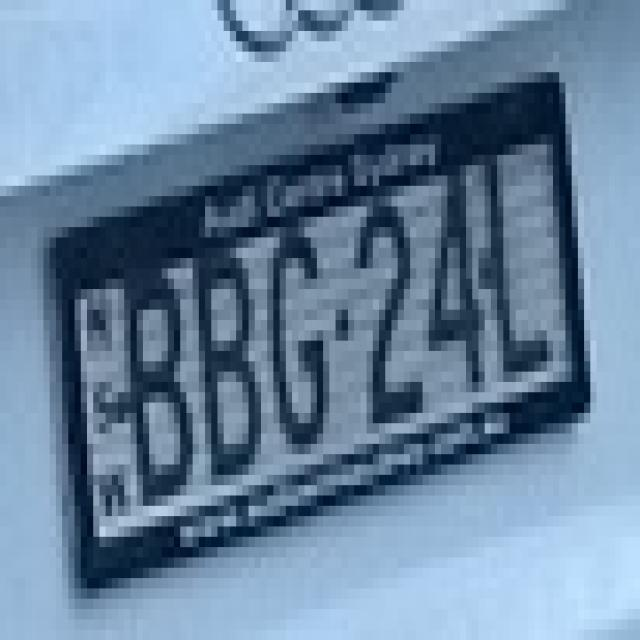LicensePlate: (37, 46, 598, 622)
